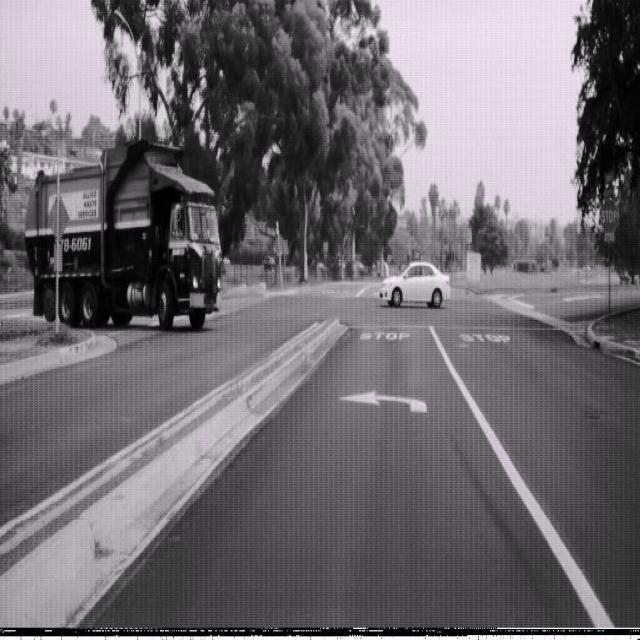stop: (599, 196, 618, 234)
